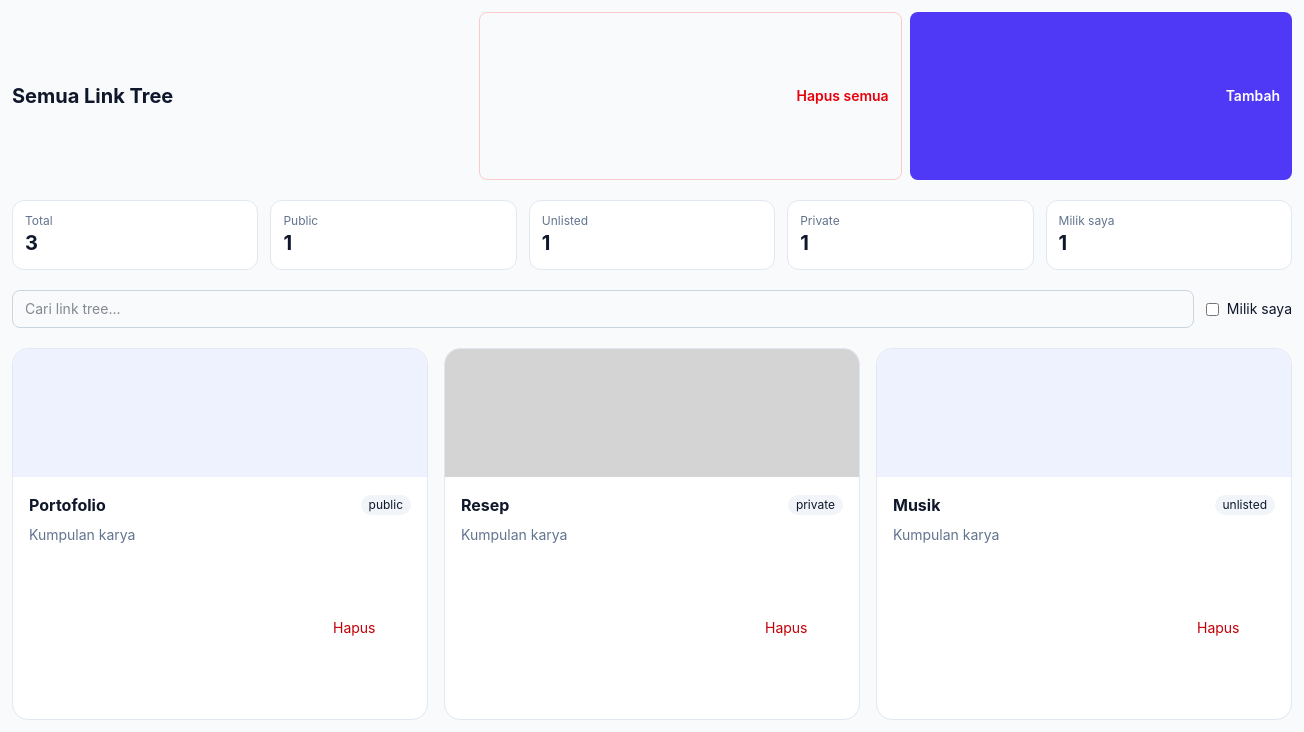
Test: HomePage › pencarian dan filter milik saya
Expected: the number of list items with test id "card" is 3, [12, 348, 428, 720]; [444, 348, 860, 720]; [876, 348, 1292, 720]
Type "resep" into the search field labelled "Cari" at {"x": 603, "y": 309}, box [12, 290, 1194, 328]
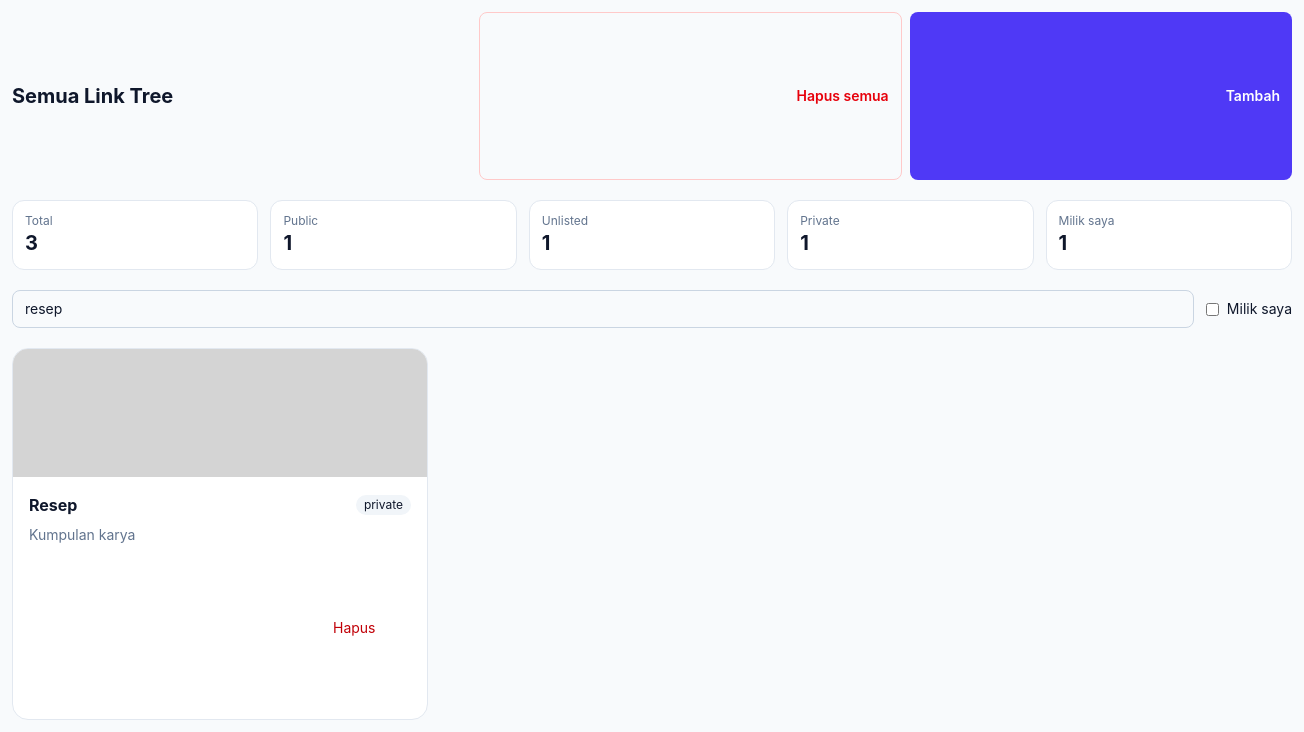
Result: the number of list items with test id "card" is 1 at [12, 348, 428, 720]
Clear the search field named "Cari" at {"x": 603, "y": 309}, box [12, 290, 1194, 328]
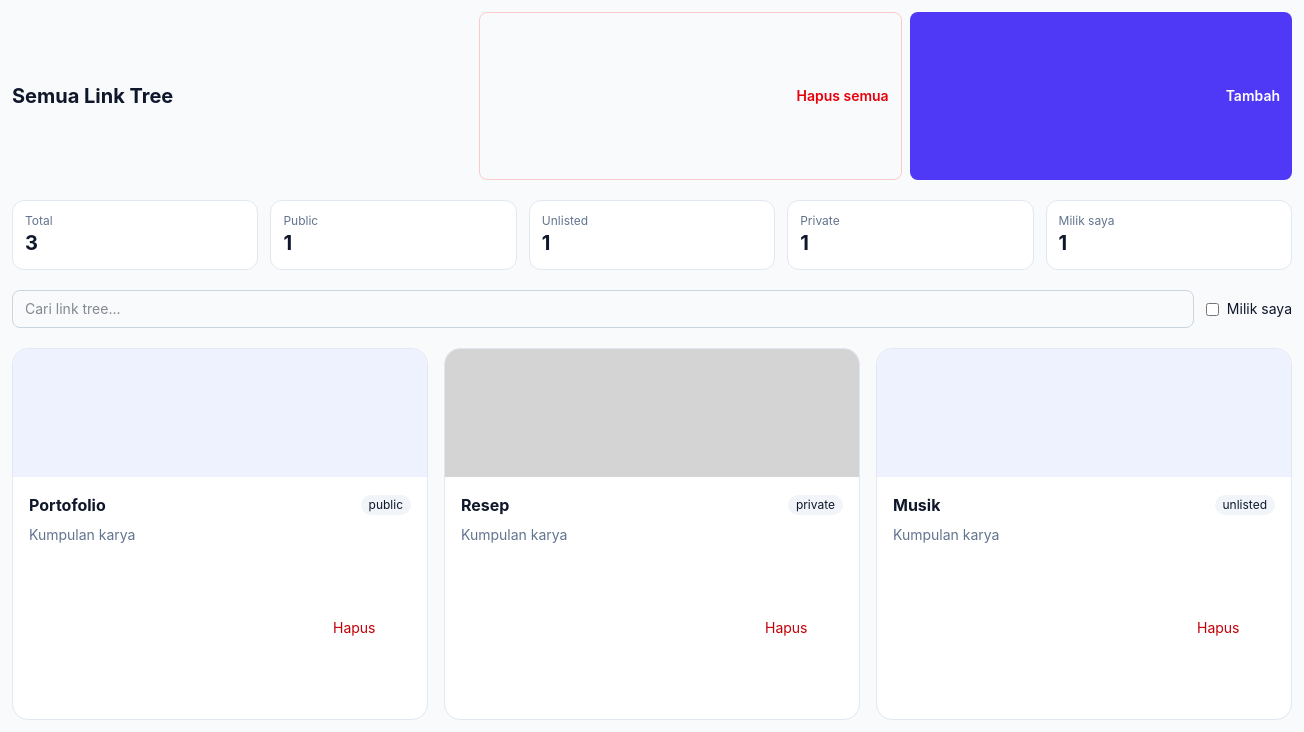
Click the checkbox labelled "Milik saya" at {"x": 1212, "y": 309}, box [1206, 302, 1219, 316]
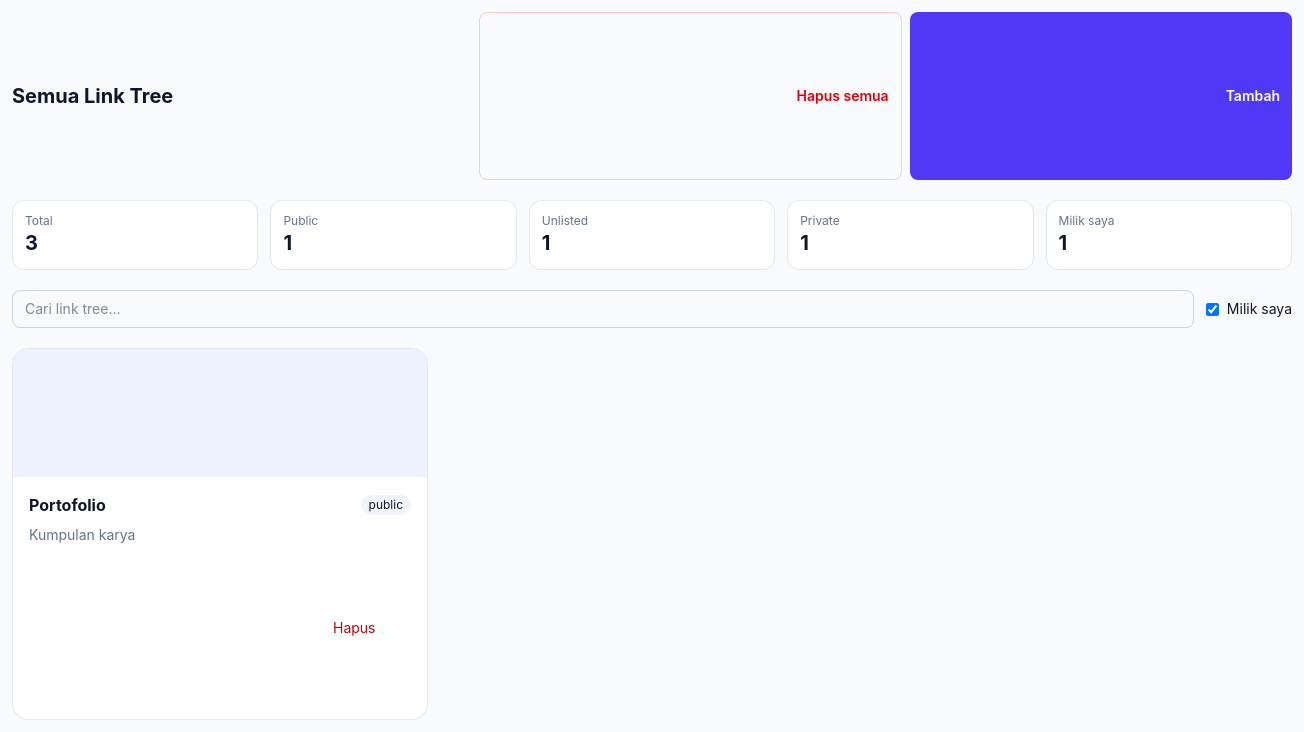
Expected: the number of list items with test id "card" is 1, [12, 348, 428, 720]
Type "zzz" into the search field labelled "Cari" at {"x": 603, "y": 309}, box [12, 290, 1194, 328]
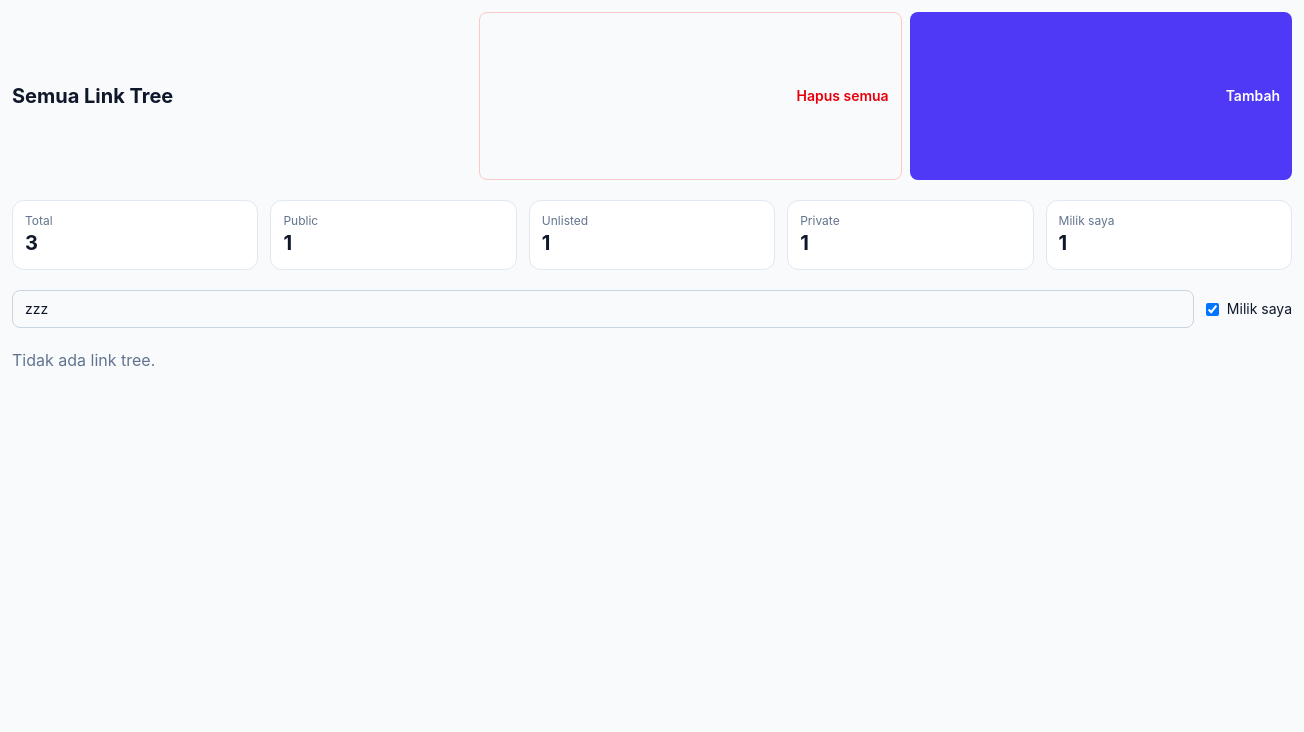
Result: the text "Tidak ada link tree." is shown at [12, 350, 155, 370]
